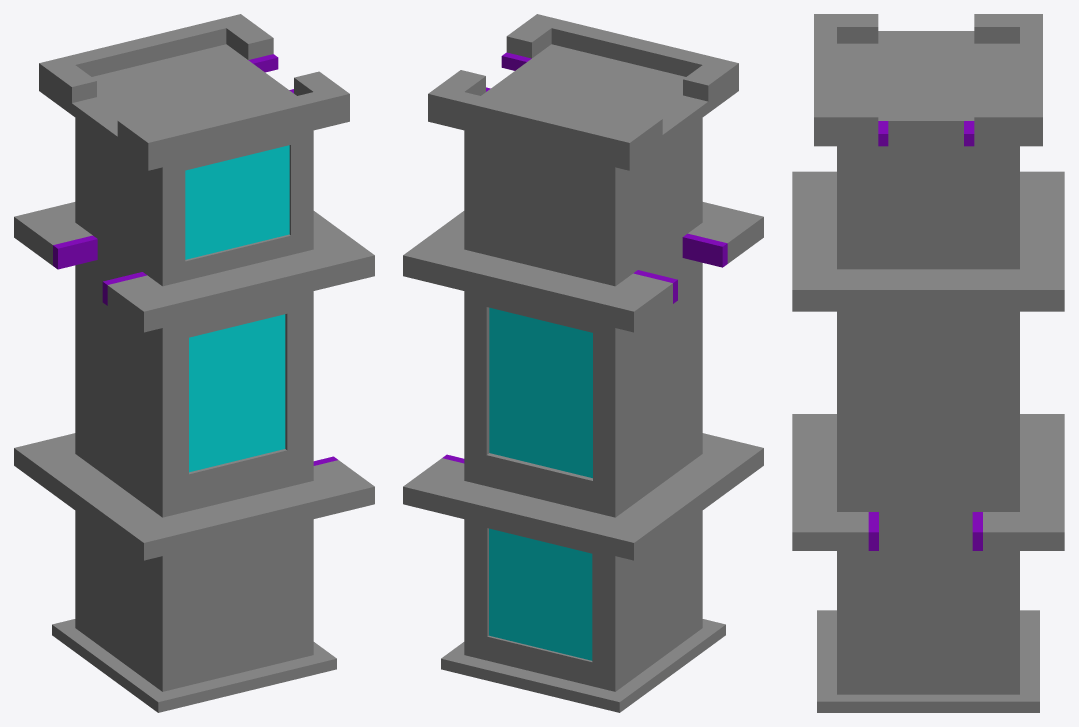
The model's file is Building5.fbx.
The picture shows the model from 3 angles, left to right: view 1: azimuth 30°, elevation 25°; view 2: azimuth 150°, elevation 25°; view 3: azimuth 270°, elevation 25°; orthographic projection. The views are drawn at different scales.
Visible parts, largest first — view 1: Building1; view 2: Building1; view 3: Building1.
Part boxes in pixels (bbox=[...]): Building1: bbox=[14, 14, 374, 712]; Building1: bbox=[403, 14, 763, 712]; Building1: bbox=[792, 14, 1064, 712].
Bounding box in the file's own units: 14.07 × 33.39 × 13.69.
